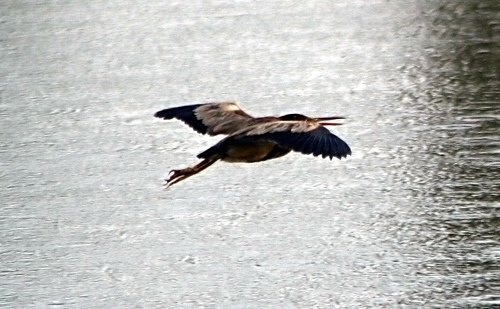bird: (157, 98, 355, 188)
